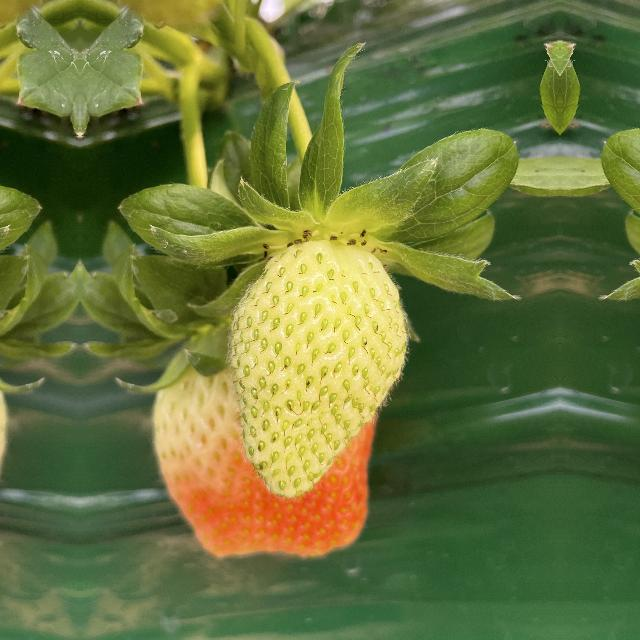Health_25: (222, 230, 414, 500)
